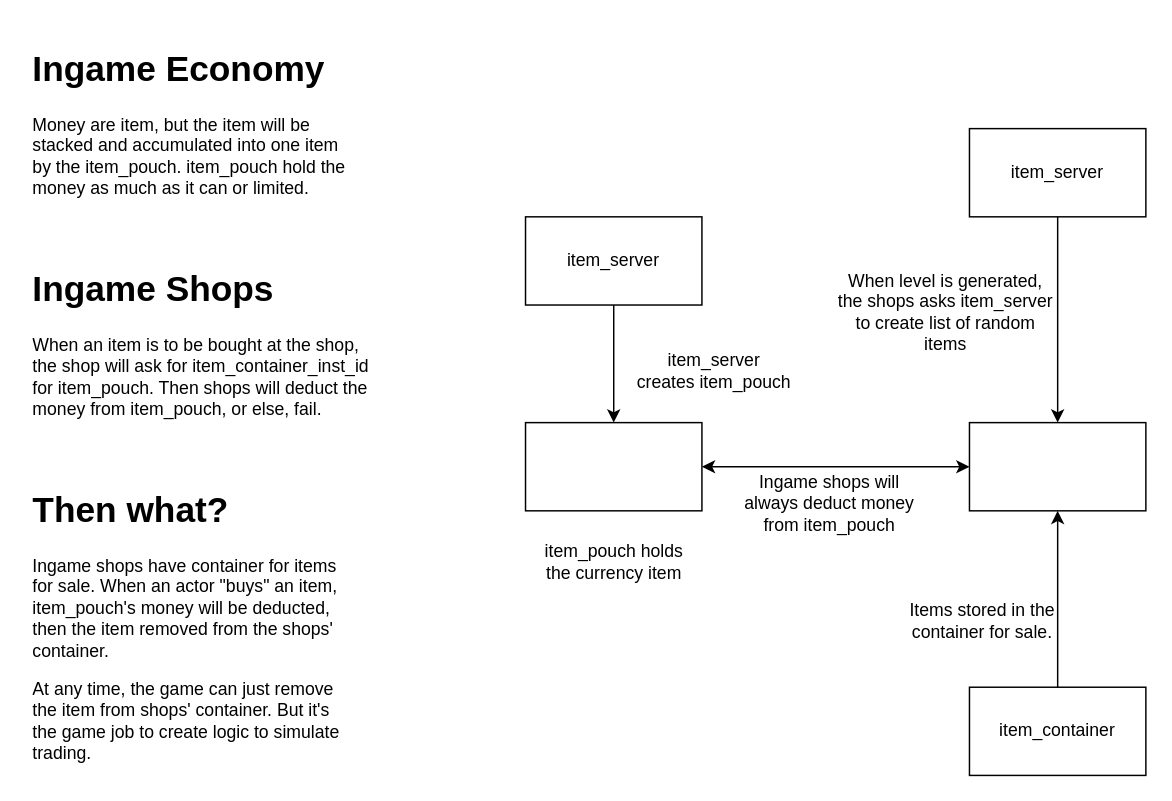
Image size: 1172x801. Some labels were removed from this diagram. The shapes that lost their labels are listed below. From the top down, each one's centre as x and y in pixels, then its label:
At pixel 613 466: "item_pouch".
At pixel 1057 466: "Ingame Shops".
